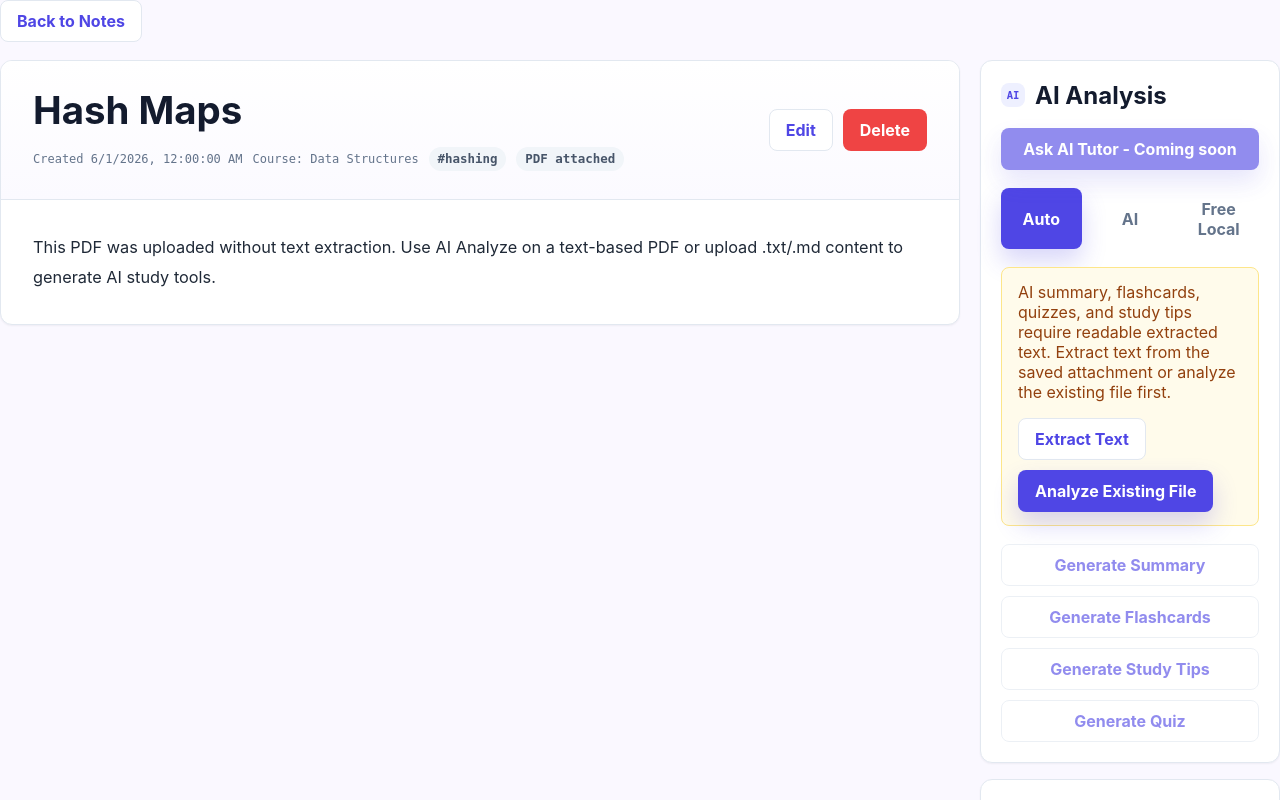
Test: NoteDetail AI actions › extracts saved attachment text and enables AI actions after reload
The image size is (1280, 800).
Click the button "Extract Text".
click(1082, 439)  # box [1018, 418, 1146, 460]
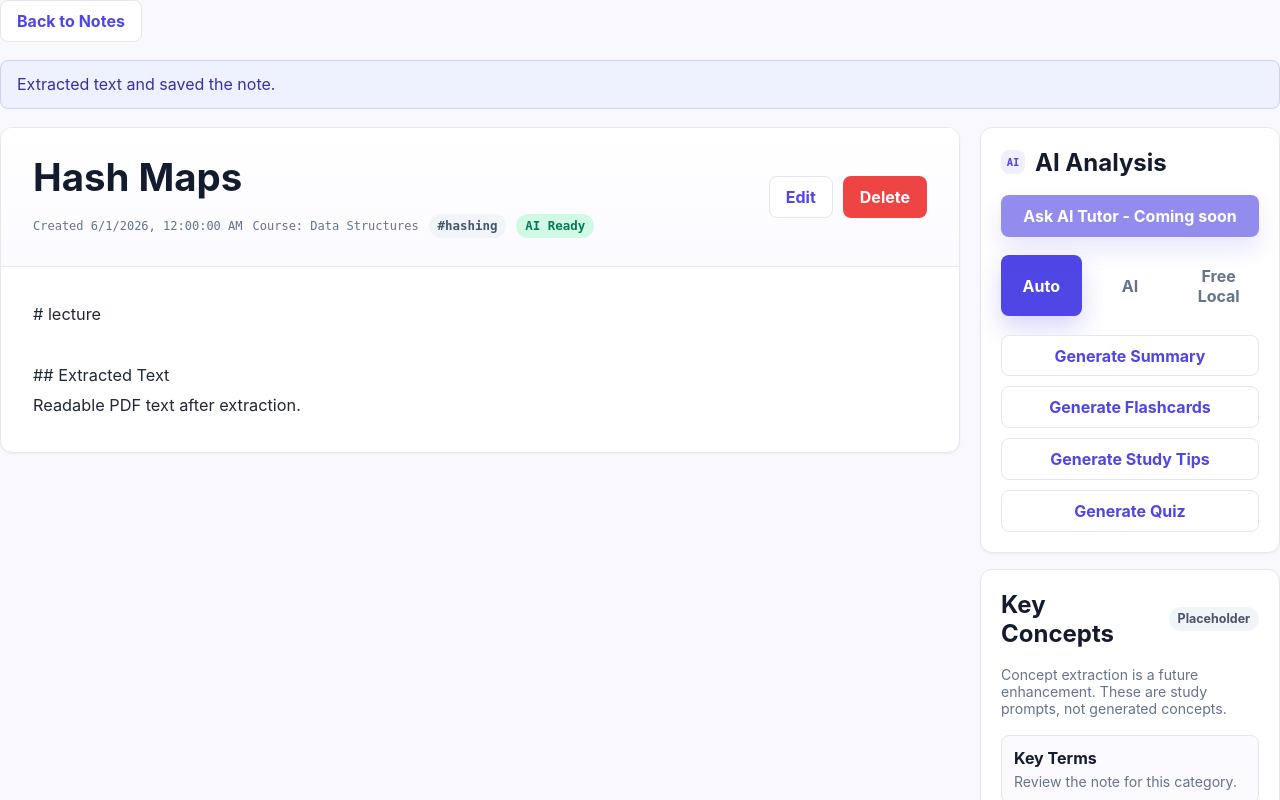
Now the text "Extracted text and saved the note." is shown, box [0, 60, 1279, 109]
Now the button "Generate Summary" is enabled, box [1001, 335, 1259, 376]
